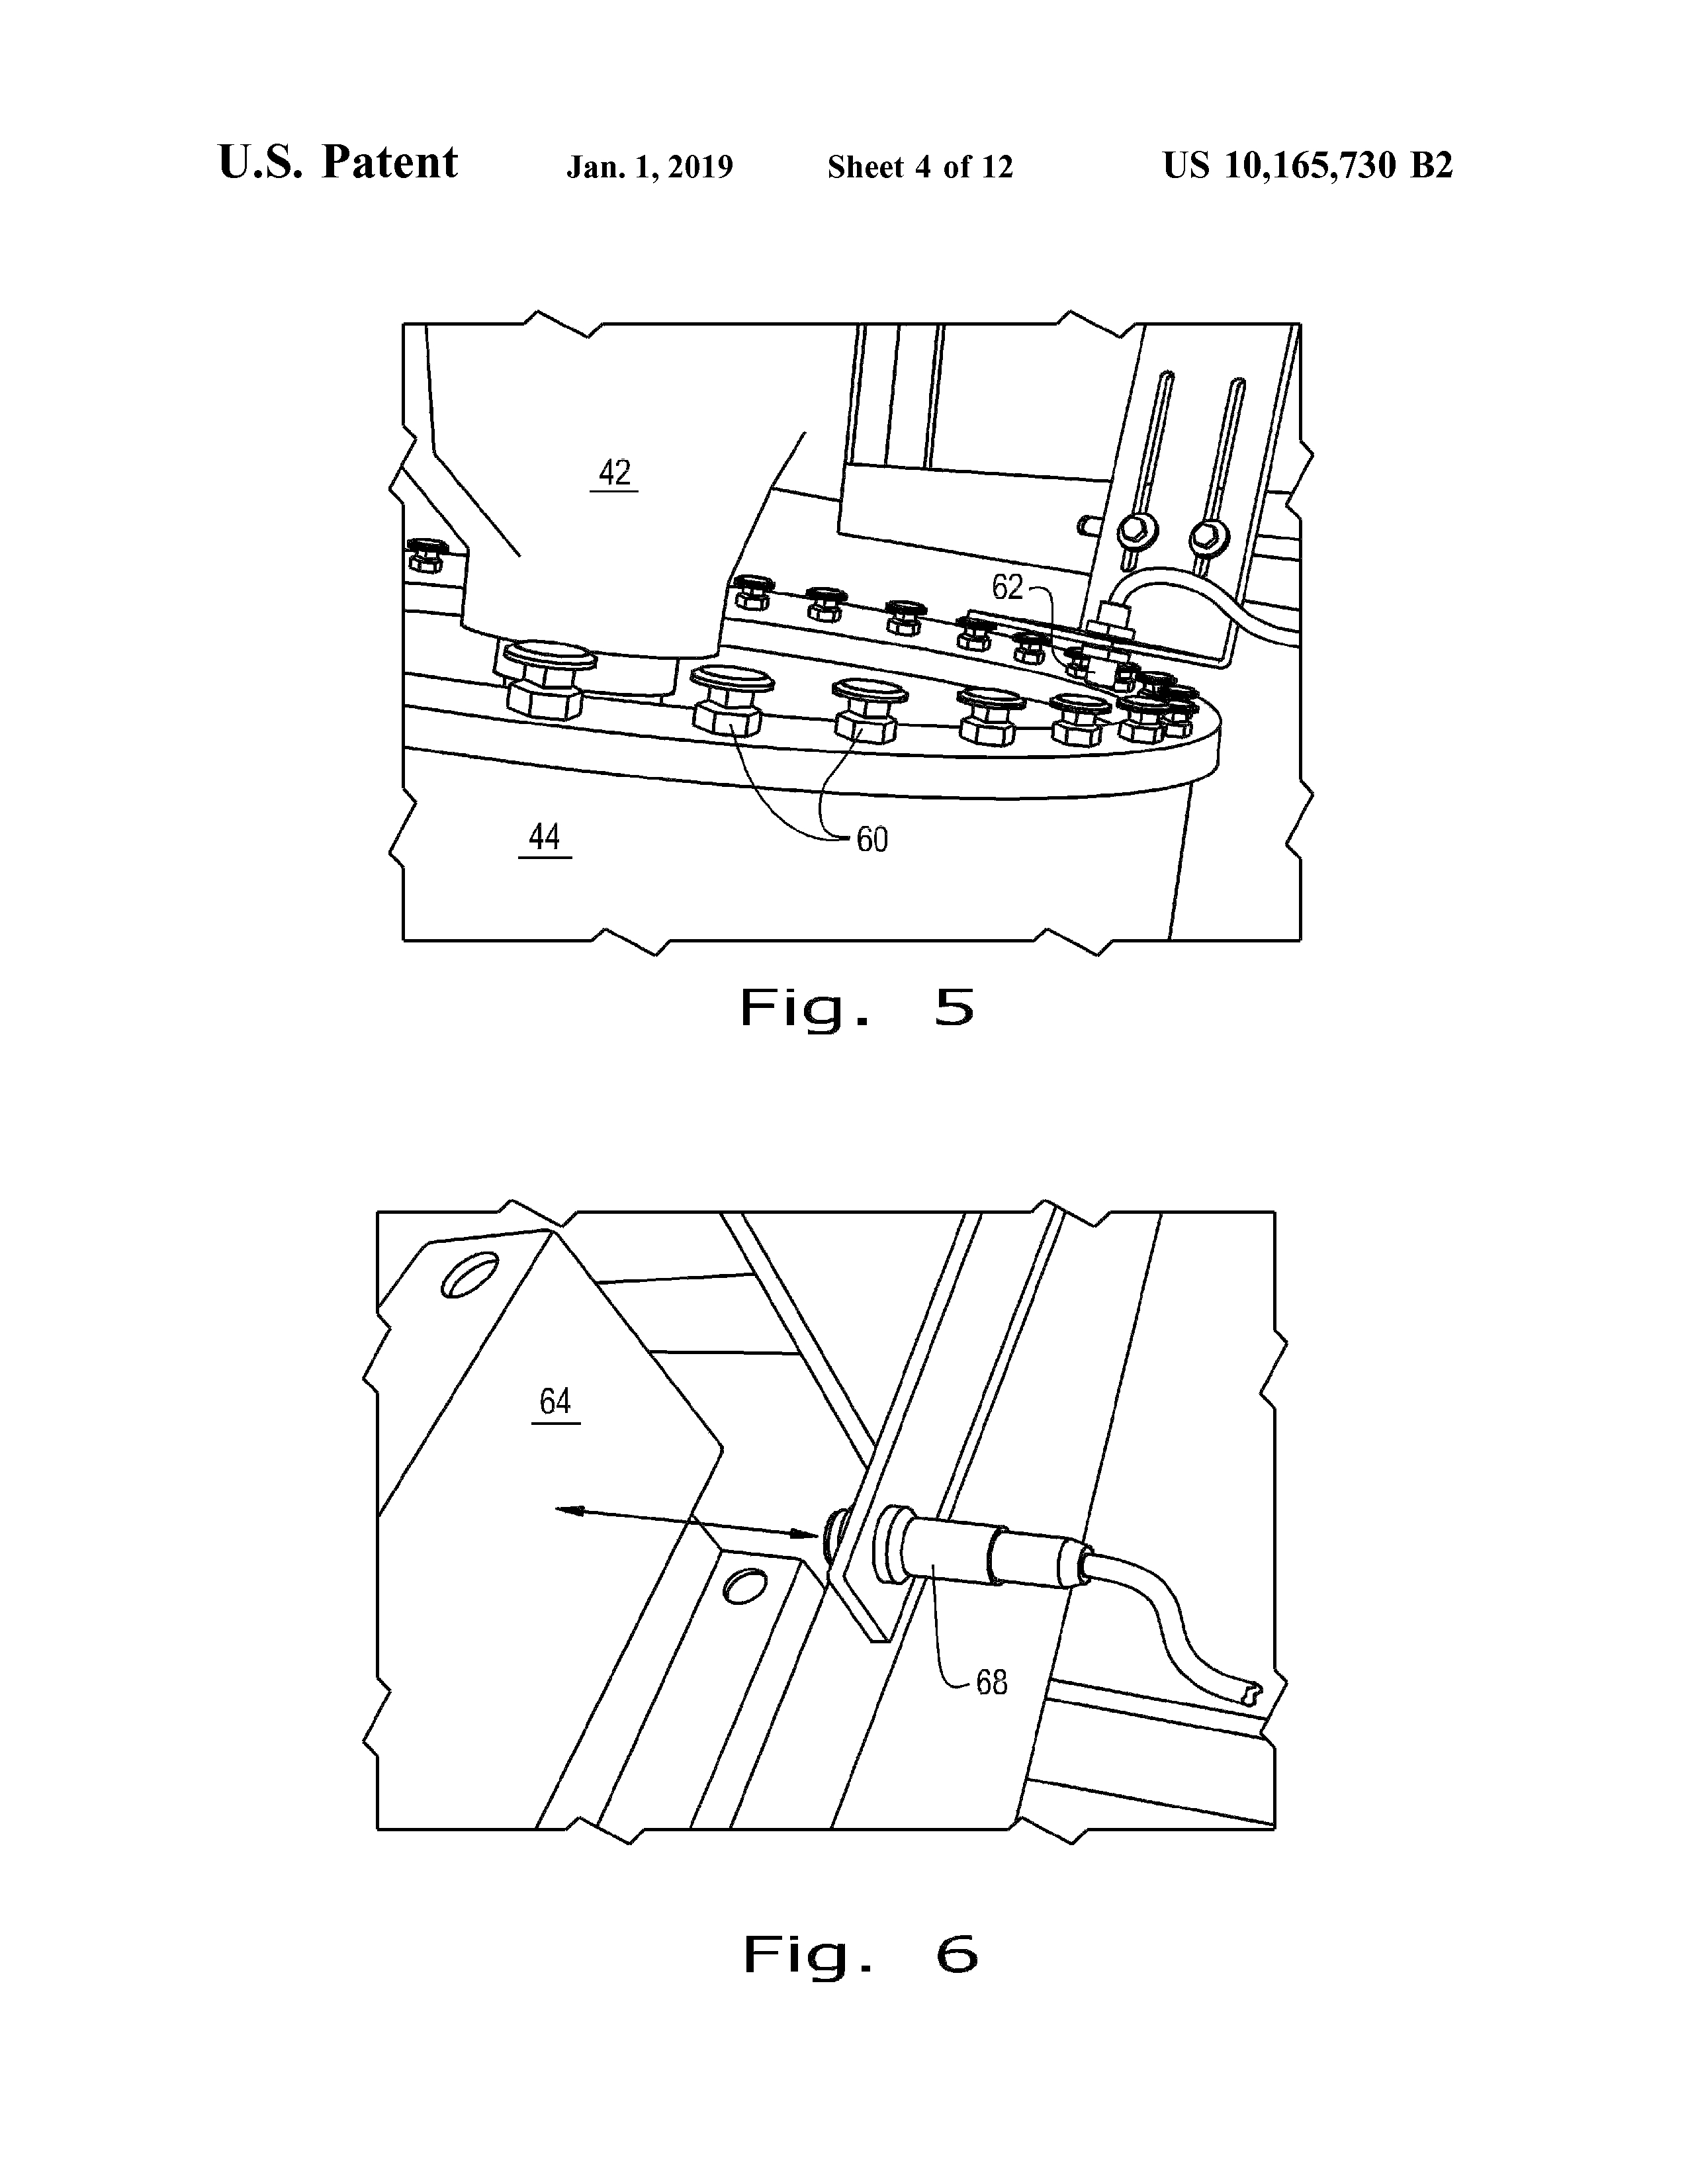patent image: (341, 1177, 1366, 2000), (328, 267, 1392, 1047)
